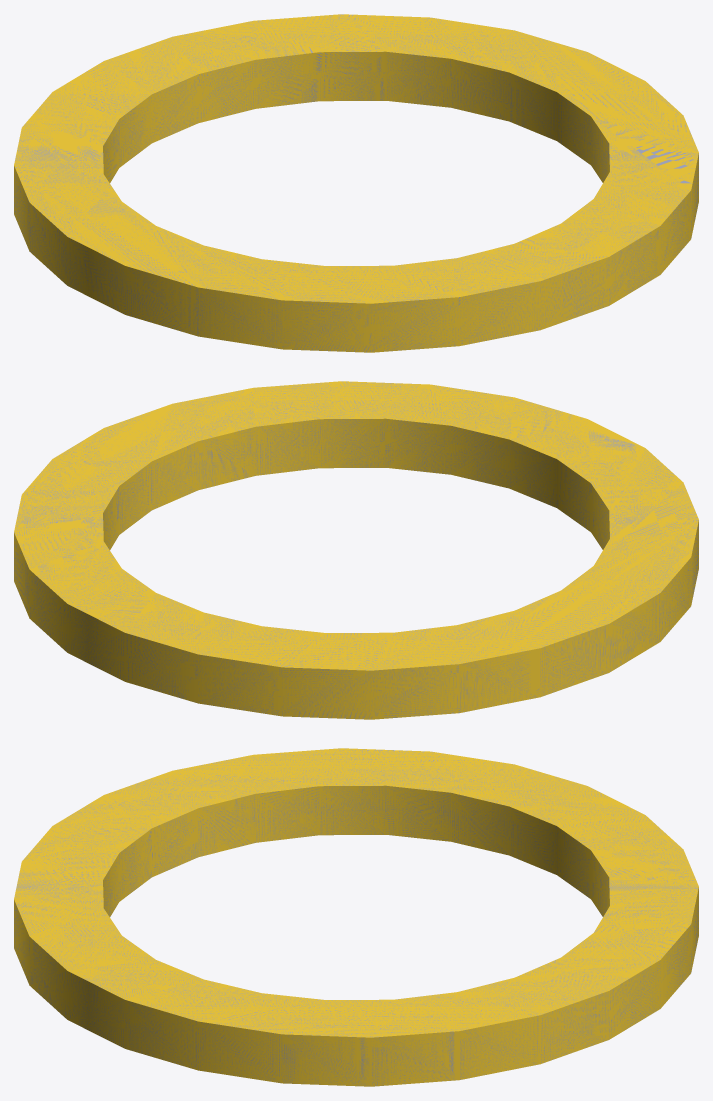
File: Ring.dae
3 renders of one model, top to bottom at view 1: azimuth 30°, elevation 25°; view 2: azimuth 150°, elevation 25°; view 3: azimuth 270°, elevation 25°, orthographic.
Parts seen in each view (by area): view 1: SketchUp (×2); view 2: SketchUp (×2); view 3: SketchUp (×2).
Part boxes in pixels (bbox=[...]): SketchUp (×2): bbox=[14, 14, 698, 352]; SketchUp (×2): bbox=[14, 381, 698, 719]; SketchUp (×2): bbox=[14, 748, 698, 1086].
Bounding box in the file's own units: 190 × 190 × 15.
